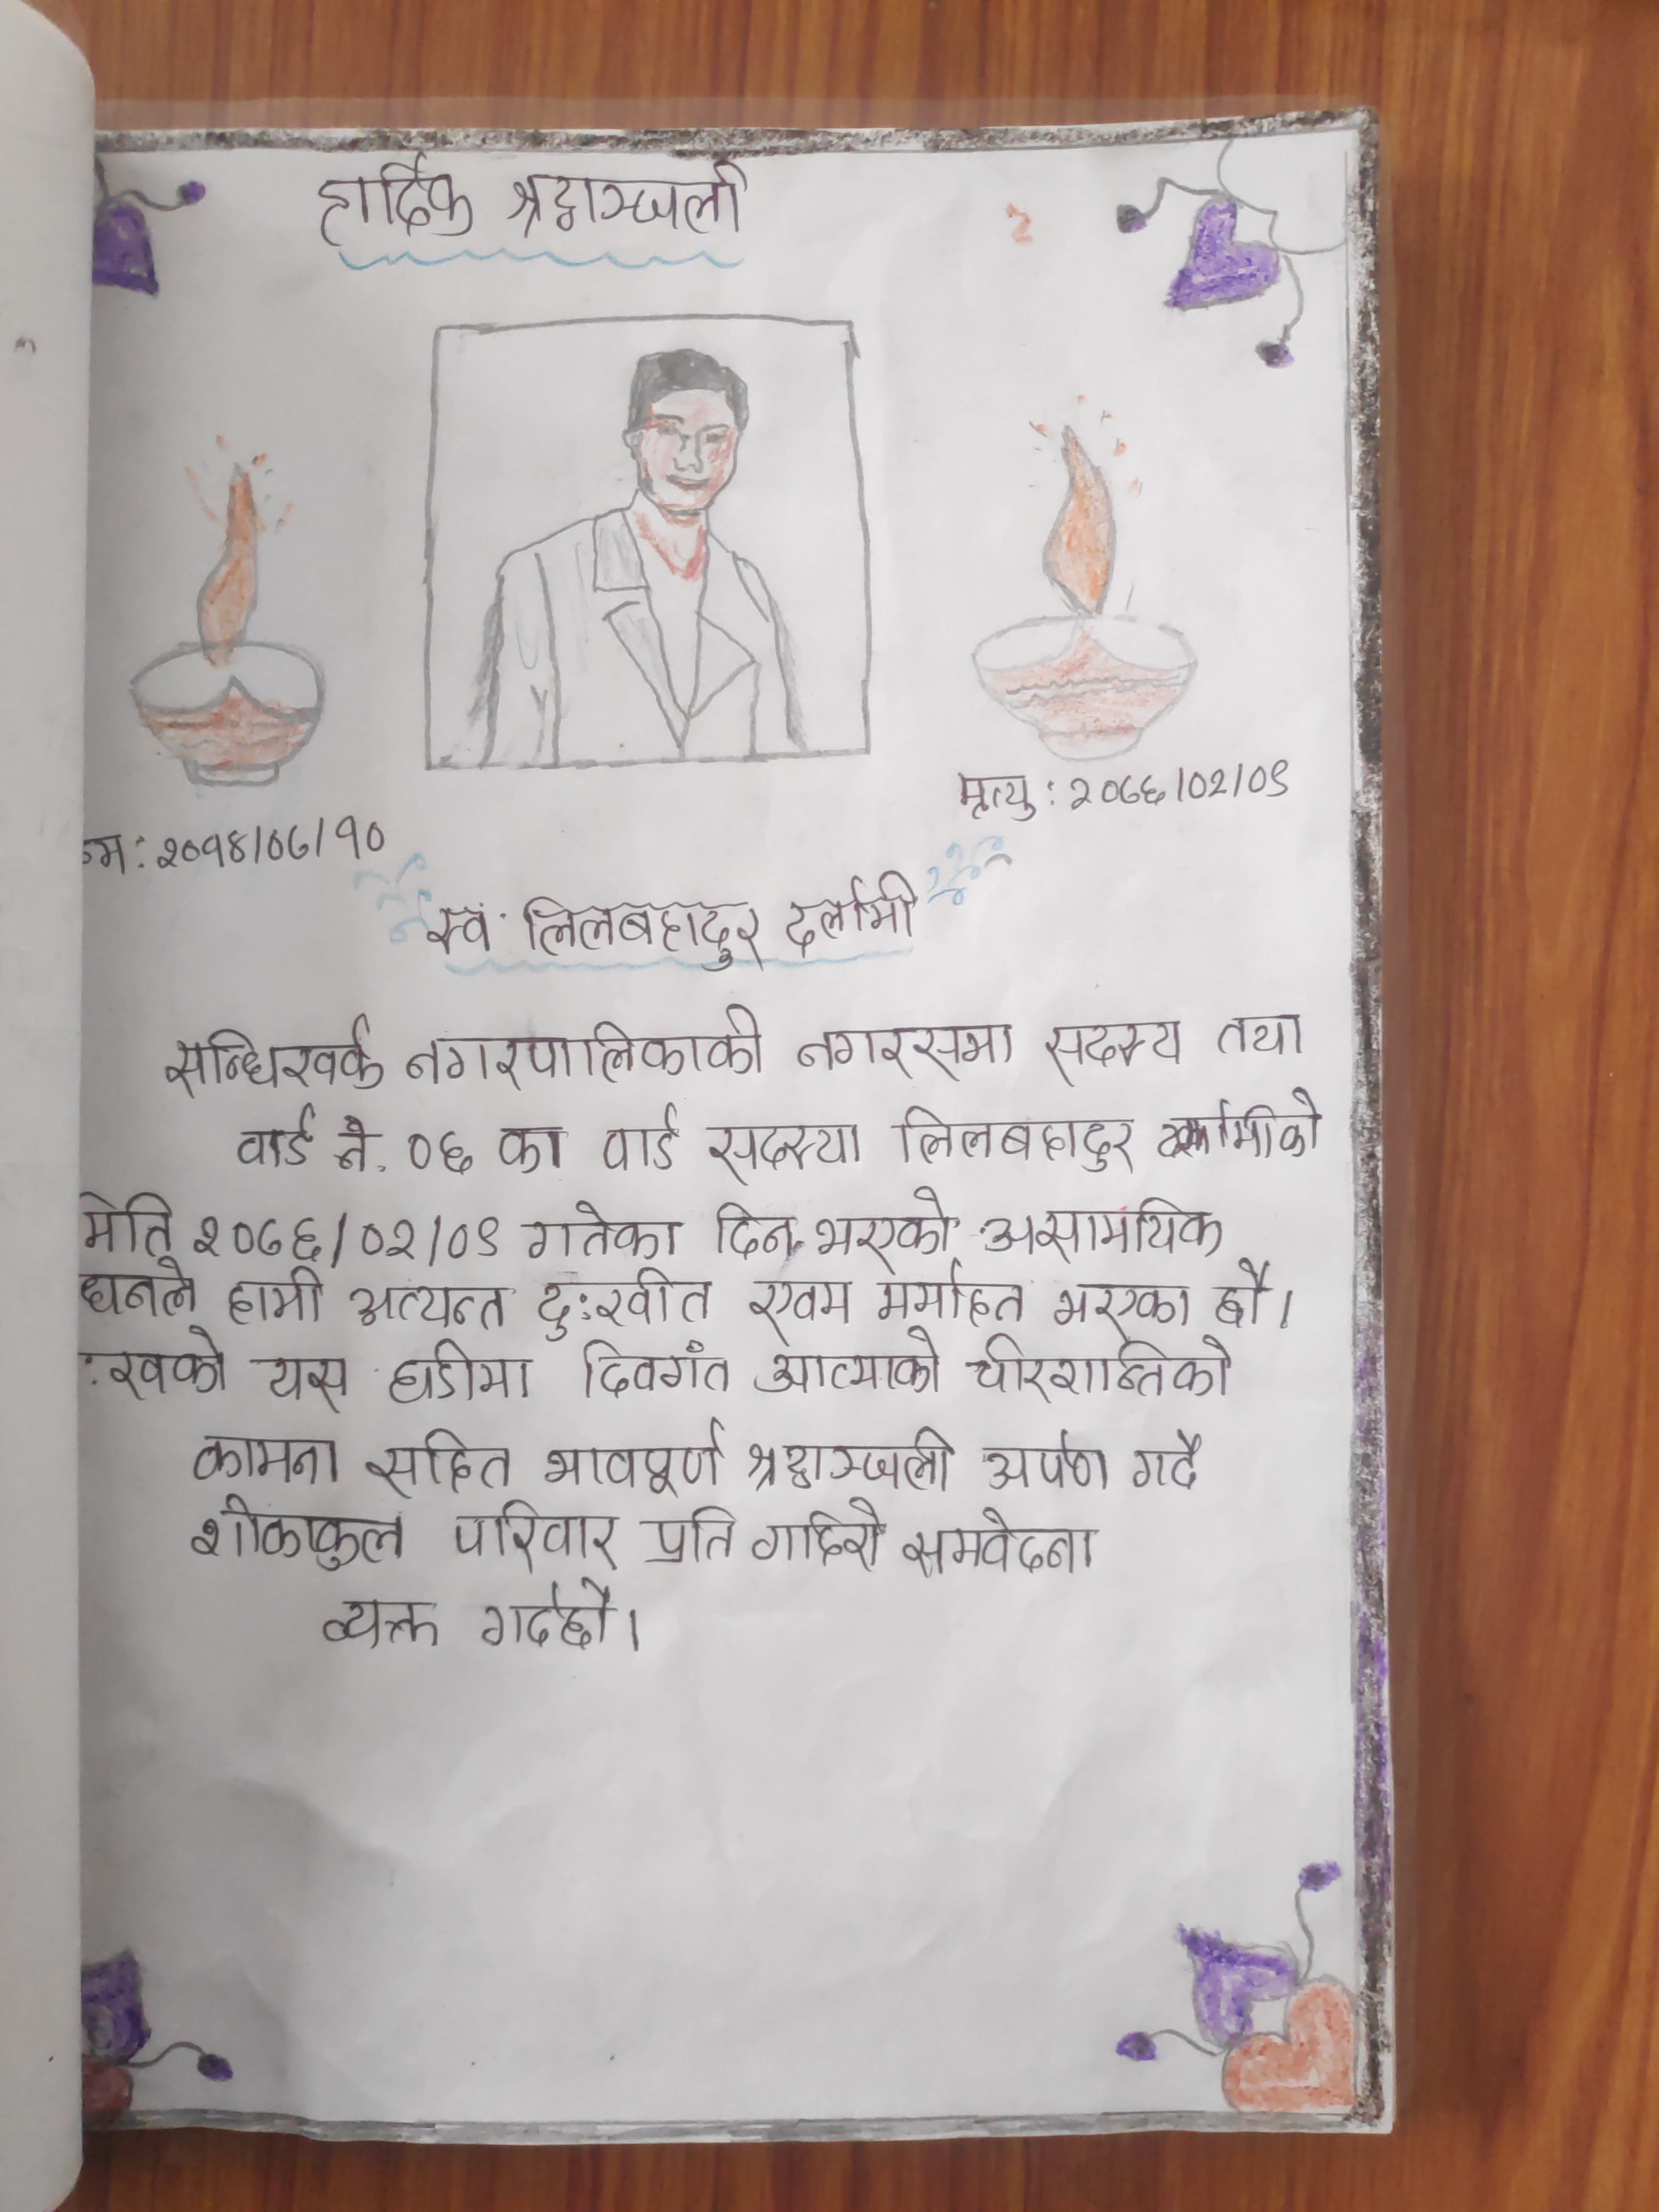text: (401, 1008, 769, 1083), (516, 894, 767, 974), (498, 160, 755, 237), (964, 1329, 1239, 1399), (162, 1014, 385, 1097), (890, 1103, 1138, 1176), (185, 1211, 509, 1266), (188, 1494, 408, 1576), (544, 1411, 735, 1498), (897, 1507, 1098, 1587), (978, 1198, 1229, 1261), (153, 812, 387, 878), (742, 1428, 957, 1498), (791, 1021, 1021, 1083), (450, 1496, 626, 1578), (310, 155, 474, 242), (1066, 752, 1293, 815), (756, 1329, 945, 1399), (701, 1111, 870, 1188), (537, 1270, 720, 1339), (809, 1186, 957, 1271), (1166, 1089, 1323, 1167), (519, 1198, 681, 1266), (85, 1324, 232, 1399), (364, 1425, 518, 1496), (781, 873, 920, 949), (749, 1501, 885, 1578), (477, 1576, 613, 1653), (389, 1338, 537, 1407), (570, 1339, 732, 1402), (188, 1426, 347, 1489), (1040, 1019, 1187, 1083), (979, 1426, 1114, 1494), (347, 1278, 509, 1334), (868, 1278, 1030, 1331), (314, 1592, 444, 1656), (71, 1186, 178, 1263), (751, 1273, 861, 1345), (1049, 1282, 1202, 1332), (71, 1263, 207, 1317), (221, 1264, 326, 1329), (594, 1099, 680, 1176), (638, 1505, 739, 1568), (225, 1104, 315, 1172), (709, 1198, 800, 1264), (1204, 1010, 1314, 1059), (268, 1353, 356, 1413), (1127, 1428, 1208, 1489), (950, 770, 1037, 826), (493, 1116, 570, 1176), (1215, 1259, 1276, 1327), (396, 1127, 476, 1177), (425, 907, 497, 963), (333, 1118, 380, 1174)
